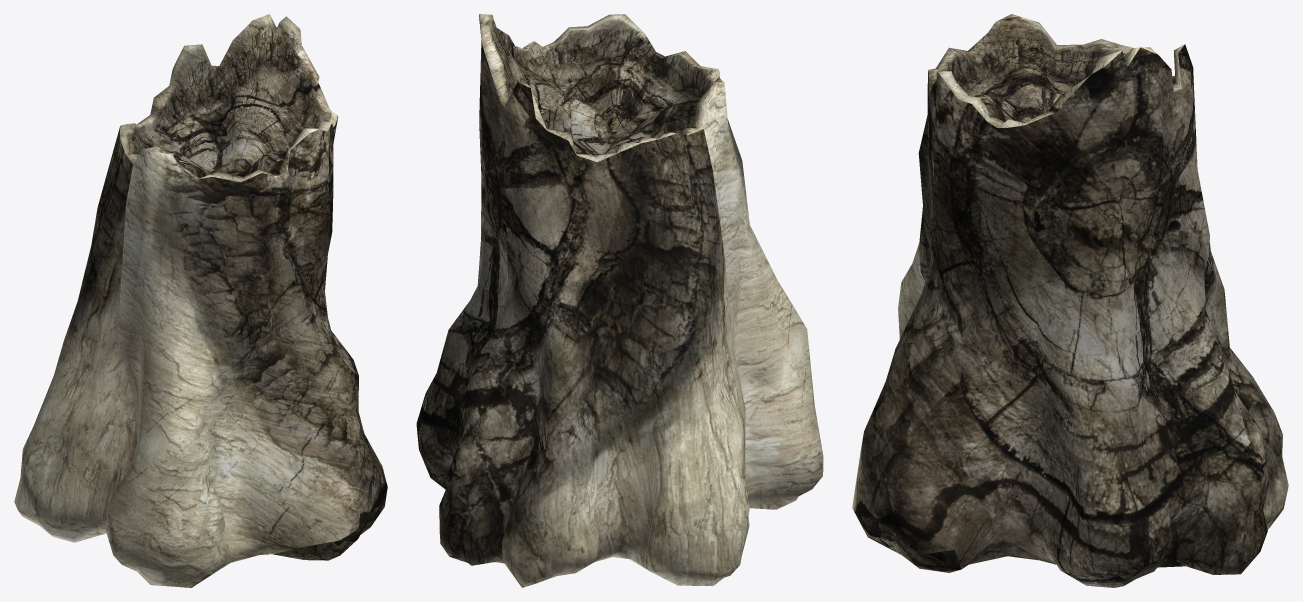
Rendered from roots_trunk.dae.
The picture shows the model from 3 angles, left to right: view 1: azimuth 30°, elevation 25°; view 2: azimuth 150°, elevation 25°; view 3: azimuth 270°, elevation 25°; orthographic projection. The views are drawn at different scales.
Parts seen in each view (by area): view 1: Mesh__2_; view 2: Mesh__2_; view 3: Mesh__2_.
Boxes of the visible parts, x1,y1,x2,y2 form: Mesh__2_: (14,14,387,587); Mesh__2_: (416,14,823,587); Mesh__2_: (852,14,1288,587).
Bounding box in the file's own units: 1.73 × 2.54 × 1.82.
